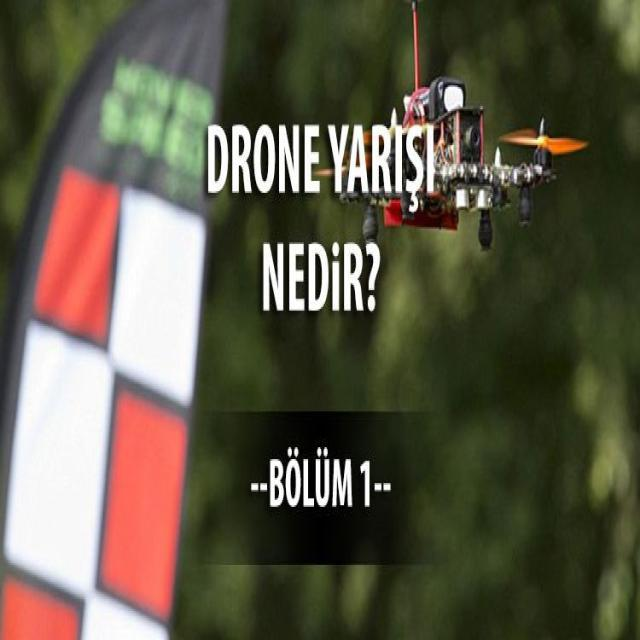drones: (326, 9, 640, 388)
